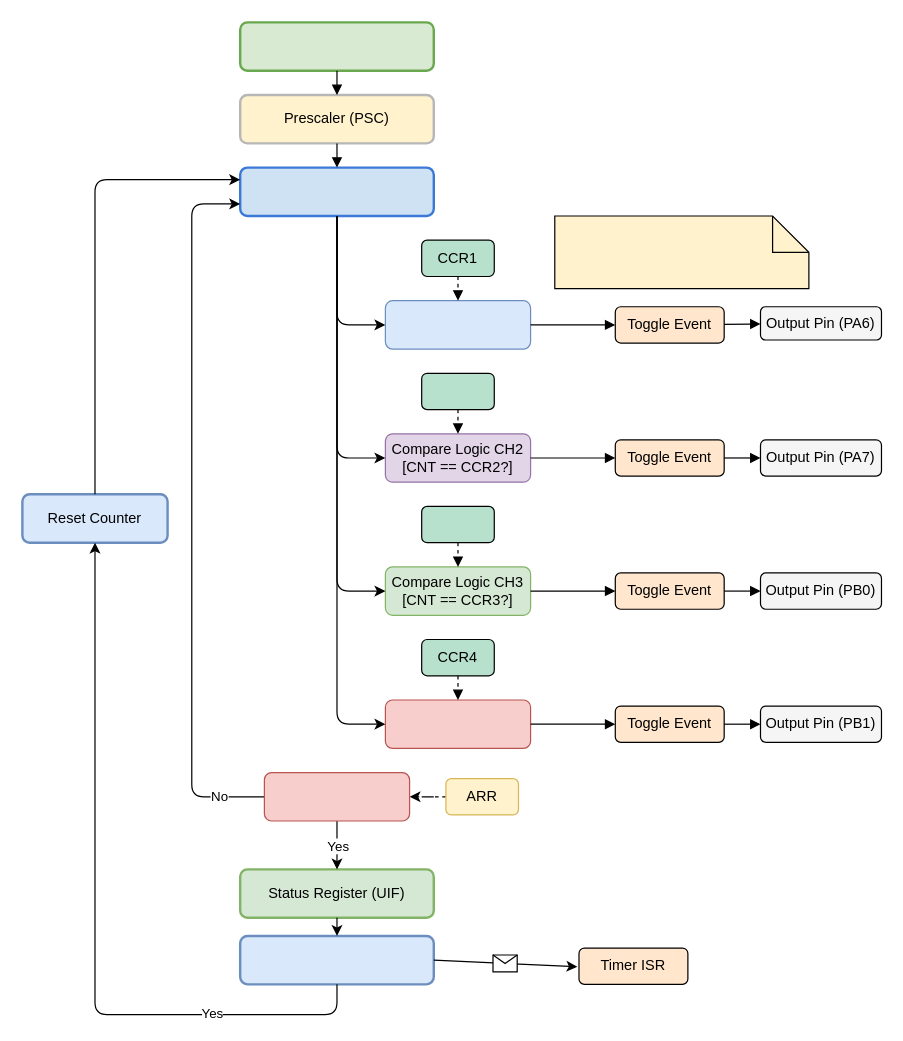
Some shapes in this 903 by 1041 pixel diagram are drawn without their labels. The box of each missing label's shape, as (x1, y1, x2, y2) in pixels:
CCR2: (420, 372, 494, 410)
CCR3: (420, 505, 494, 543)
Clock Source (APB2): (238, 21, 434, 71)
Compare Logic [CNT == ARR?]: (263, 771, 410, 821)
Compare Logic CH1 [CNT == CCR1?]: (384, 299, 531, 349)
Compare Logic CH4 [CNT == CCR4?]: (384, 699, 531, 748)
Increment Counter (CNT++): (238, 166, 434, 217)
Interrupt / DMA Request: (238, 934, 434, 985)
On each match: Output pin toggles (high/low): (554, 215, 809, 289)
